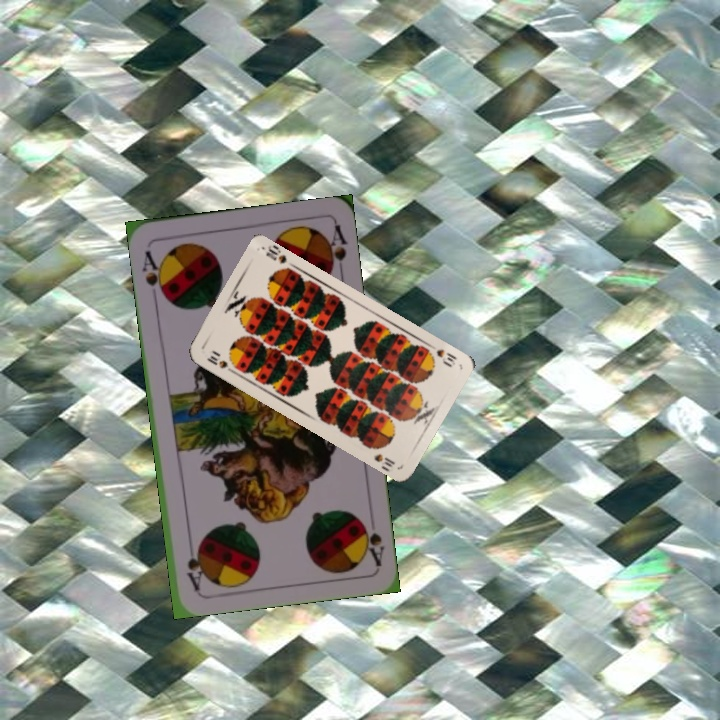S10: (424, 340, 459, 369), (203, 351, 231, 371)
SA: (355, 512, 387, 568), (138, 246, 169, 303)
